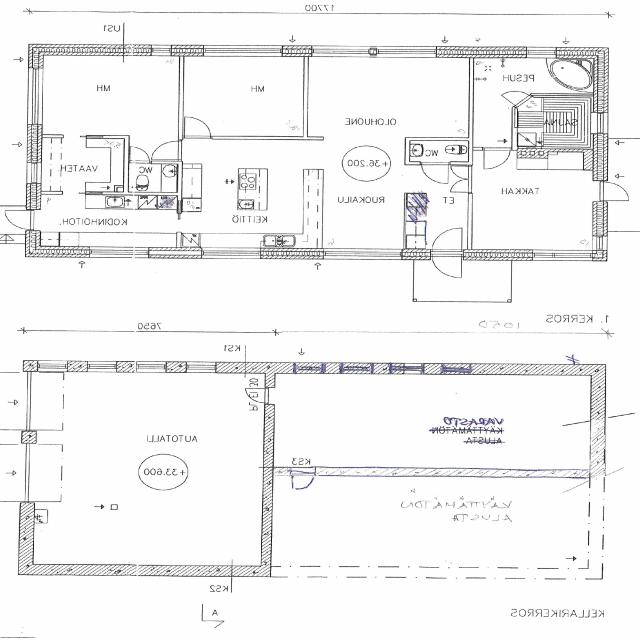door: (430, 250, 464, 284), (430, 227, 464, 260), (0, 208, 44, 230), (594, 180, 638, 202), (501, 86, 531, 107), (292, 466, 315, 492), (422, 162, 449, 184), (185, 118, 212, 140), (153, 141, 184, 160), (484, 147, 510, 169), (239, 388, 274, 404), (131, 146, 150, 164), (450, 166, 474, 180), (450, 180, 474, 193)
